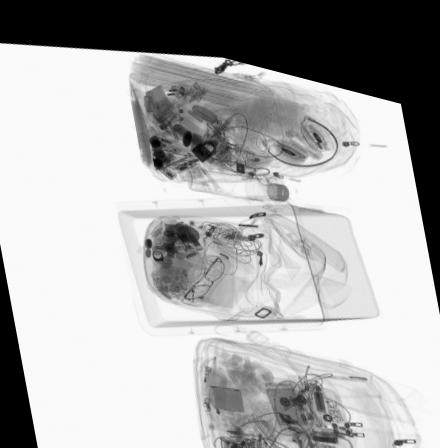Lighter: (160, 76, 188, 85)
